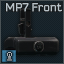MP7 flip up front sight: (0, 0, 64, 64)
